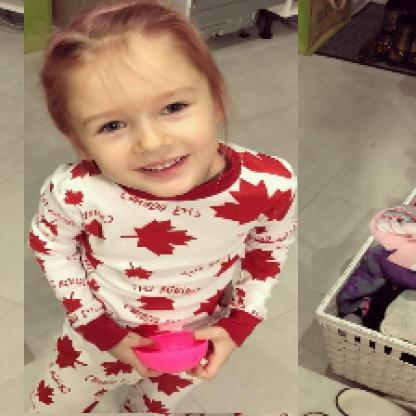child: (25, 1, 300, 415)
